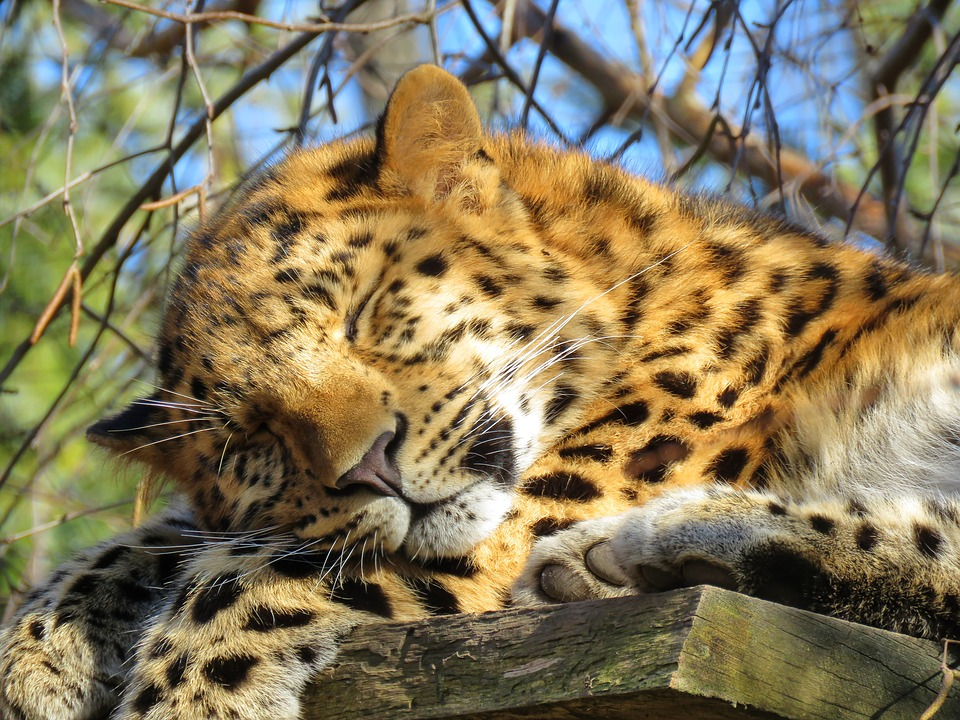amur_leopard: (96, 27, 897, 703)
